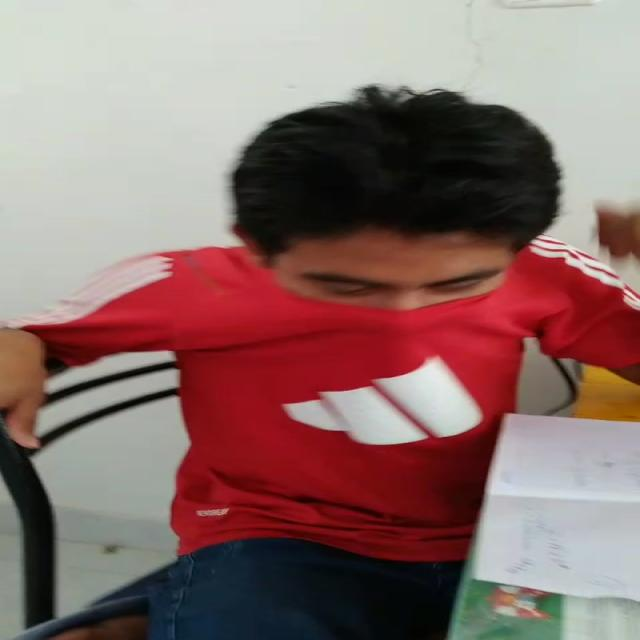8_ropa_rostro: (211, 275, 532, 364)
